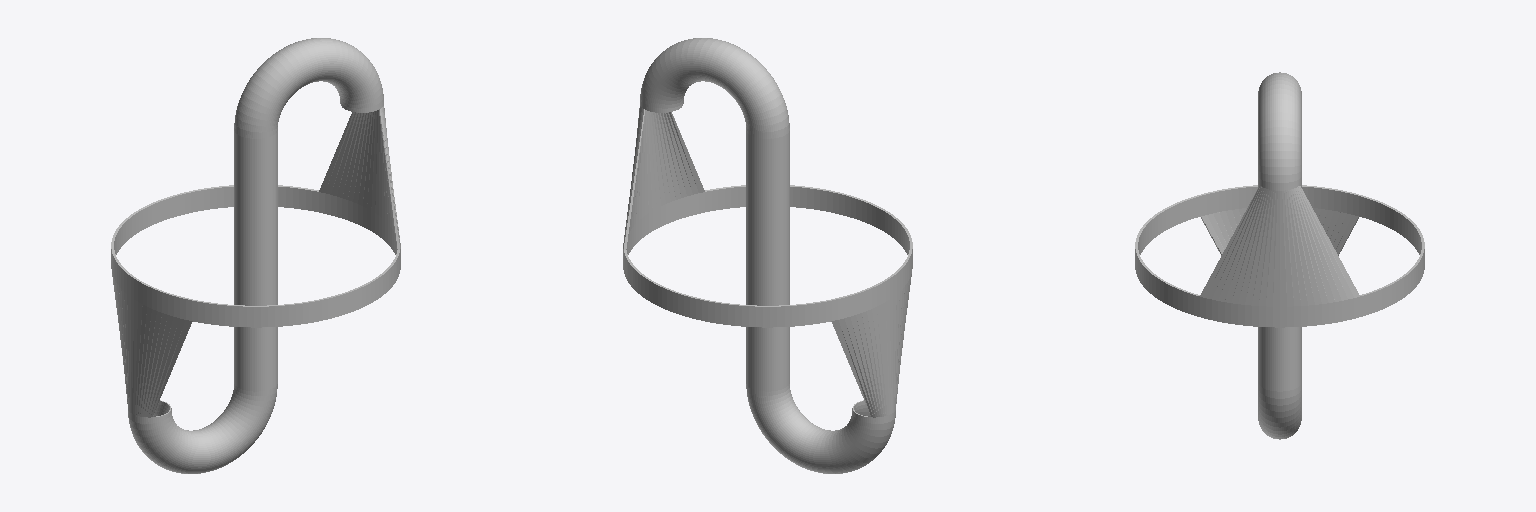
The model's file is RingMap1.obj.
The picture shows the model from 3 angles: view 1: azimuth 30°, elevation 25°; view 2: azimuth 150°, elevation 25°; view 3: azimuth 270°, elevation 25°; orthographic projection.
Parts seen in each view (by area): view 1: Cylinder.001; view 2: Cylinder.001; view 3: Cylinder.001.
Part boxes in pixels (x1,y1,x2,y2): Cylinder.001: (111, 38, 400, 473); Cylinder.001: (623, 38, 912, 473); Cylinder.001: (1135, 72, 1424, 439).
Size of the model in its own units: 212 by 326 by 212.